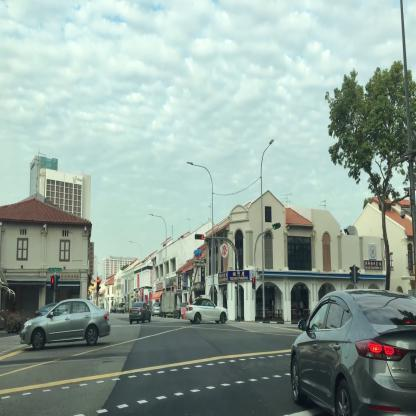red_traffic_light: (196, 234, 204, 239), (96, 278, 98, 291)
